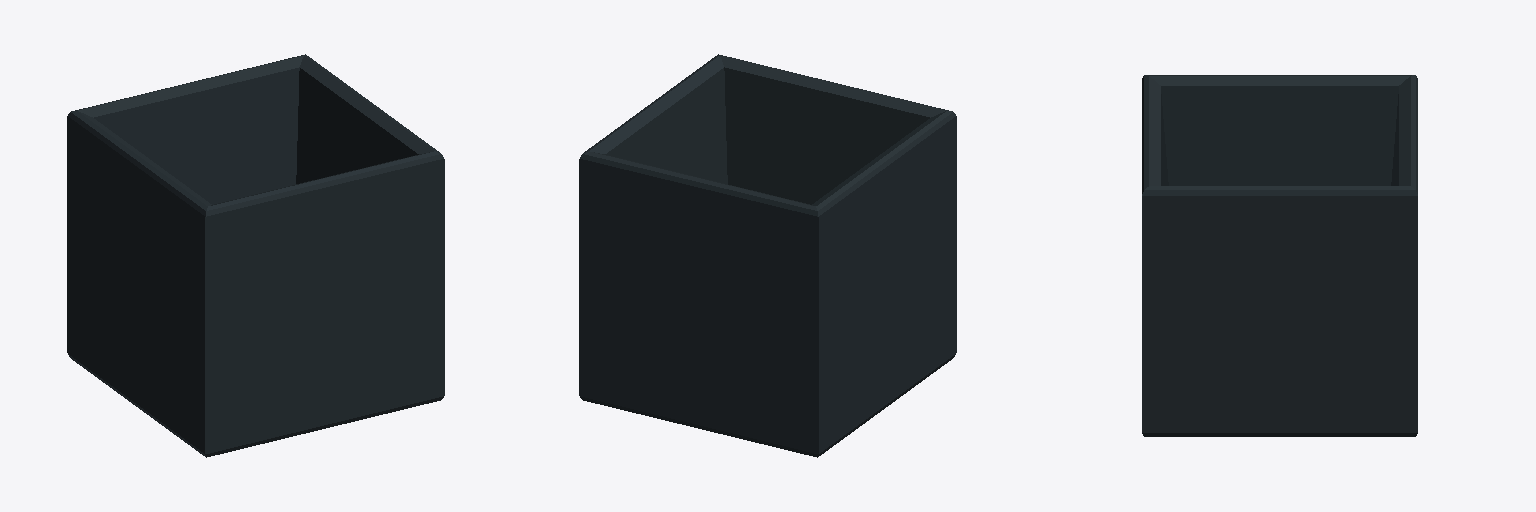
The model's file is tileSpikes.obj.
The picture shows the model from 3 angles: view 1: azimuth 30°, elevation 25°; view 2: azimuth 150°, elevation 25°; view 3: azimuth 270°, elevation 25°; orthographic projection.
Parts seen in each view (by area): view 1: tileSpikes_Cube.3223; view 2: tileSpikes_Cube.3223; view 3: tileSpikes_Cube.3223.
Part boxes in pixels (x1,y1,x2,y2): tileSpikes_Cube.3223: (67,54,444,457); tileSpikes_Cube.3223: (579,54,956,457); tileSpikes_Cube.3223: (1142,75,1417,436).
Size of the model in its own units: 2 by 2 by 2.